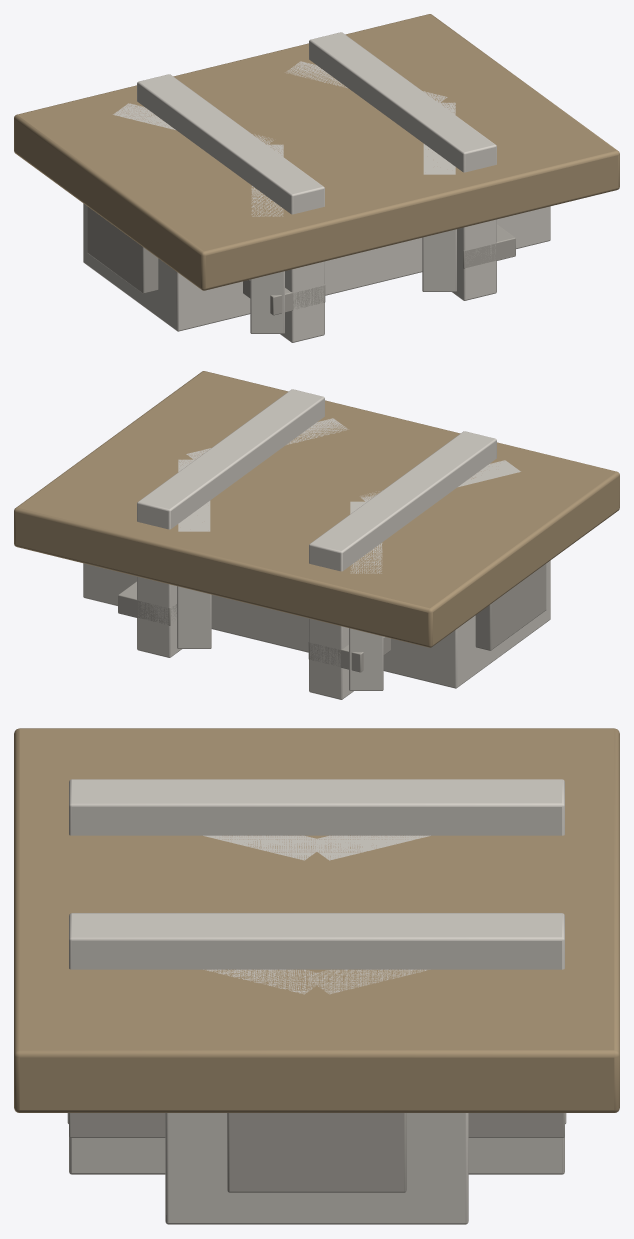
Rendered from fieldvision-culvert.glb.
3 renders of one model, top to bottom at view 1: azimuth 30°, elevation 25°; view 2: azimuth 150°, elevation 25°; view 3: azimuth 270°, elevation 25°, orthographic. The views are drawn at different scales.
Parts seen in each view (by area): view 1: Embankment, HeadwallB, HeadwallA, Barrel, BarrelVoid, WingAR, WingBR, ApronA, ApronB, WingAL, WingBL; view 2: Embankment, HeadwallA, HeadwallB, Barrel, BarrelVoid, WingAL, WingBL, ApronA, ApronB, WingAR, WingBR; view 3: Embankment, HeadwallA, HeadwallB, Barrel, BarrelVoid, ApronA, WingBL, WingBR, WingAL, WingAR.
Boxes of the visible parts, bbox=[...] form: Embankment: bbox=[14, 14, 619, 290]; HeadwallB: bbox=[137, 74, 324, 342]; HeadwallA: bbox=[309, 32, 496, 300]; Barrel: bbox=[83, 203, 550, 331]; BarrelVoid: bbox=[87, 207, 158, 293]; WingAR: bbox=[422, 102, 456, 291]; WingBR: bbox=[250, 144, 284, 333]; ApronA: bbox=[463, 224, 515, 268]; ApronB: bbox=[243, 279, 325, 315]; WingAL: bbox=[285, 61, 447, 102]; WingBL: bbox=[113, 103, 273, 144]; Embankment: bbox=[14, 371, 619, 647]; HeadwallA: bbox=[137, 389, 324, 657]; HeadwallB: bbox=[309, 431, 496, 699]; Barrel: bbox=[83, 560, 550, 688]; BarrelVoid: bbox=[475, 564, 546, 650]; WingAL: bbox=[177, 459, 211, 648]; WingBL: bbox=[349, 501, 383, 690]; ApronA: bbox=[118, 581, 176, 625]; ApronB: bbox=[308, 636, 390, 672]; WingAR: bbox=[186, 418, 348, 459]; WingBR: bbox=[360, 460, 520, 501]; Embankment: bbox=[14, 728, 619, 1112]; HeadwallA: bbox=[69, 913, 564, 1174]; HeadwallB: bbox=[69, 779, 564, 835]; Barrel: bbox=[165, 1113, 468, 1224]; BarrelVoid: bbox=[227, 1113, 406, 1192]; ApronA: bbox=[69, 1113, 564, 1137]; WingBL: bbox=[304, 835, 430, 860]; WingBR: bbox=[203, 835, 328, 860]; WingAL: bbox=[304, 969, 566, 1123]; WingAR: bbox=[67, 969, 326, 1123].
Bounding box in the file's own units: 11.2 × 3.8 × 8.8.
